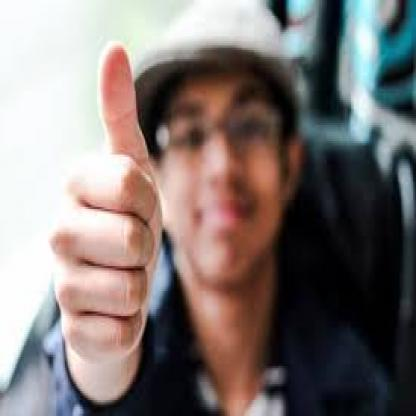thumb_up: (45, 41, 174, 361)
